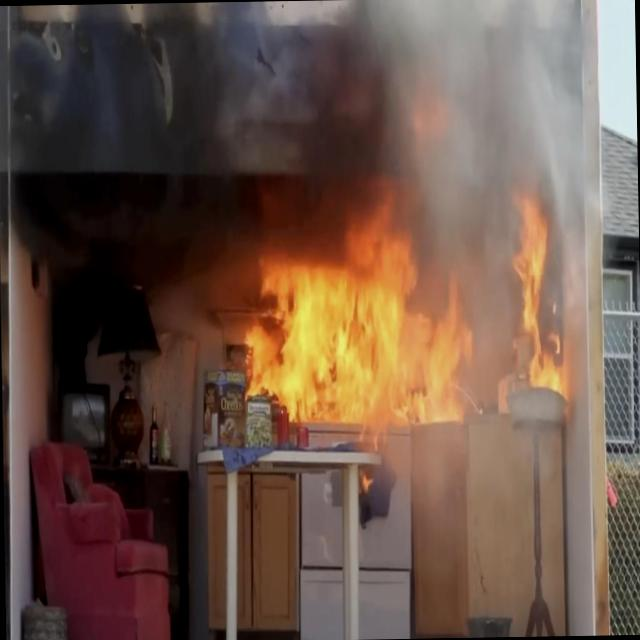fire: (235, 200, 582, 469)
